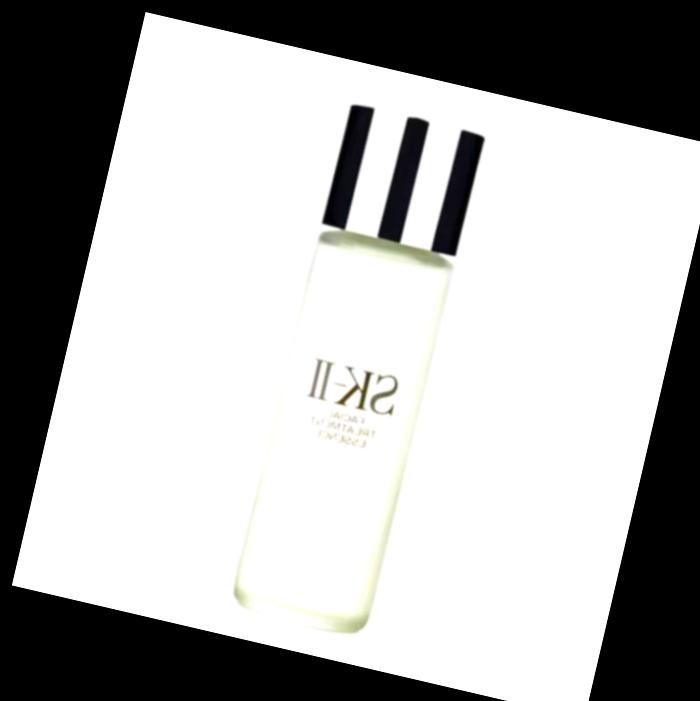cosmetic: (222, 103, 487, 643)
